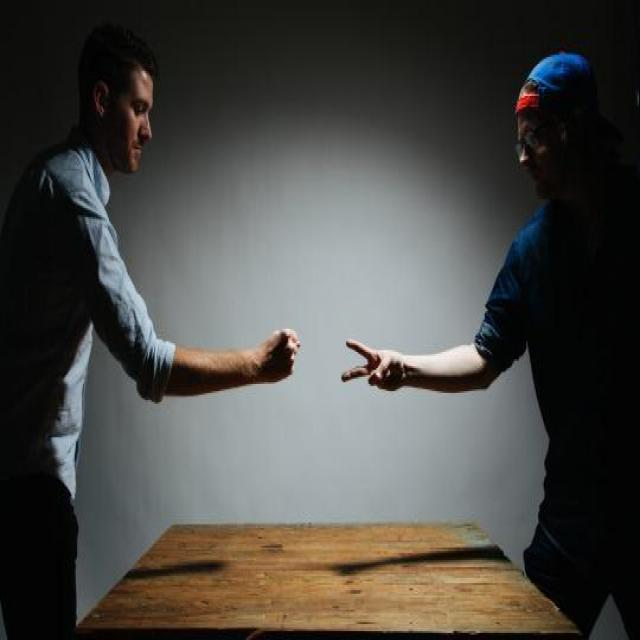rock: (264, 330, 296, 385)
scissors: (339, 339, 401, 389)
